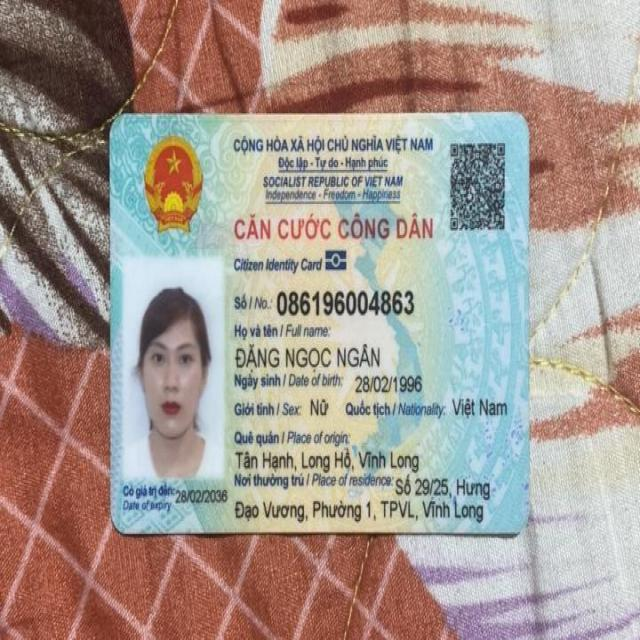bottom_left: (102, 508, 140, 546)
bottom_right: (504, 502, 536, 544)
image_person: (123, 256, 229, 485)
top_left: (96, 101, 134, 146)
top_right: (502, 102, 546, 135)
